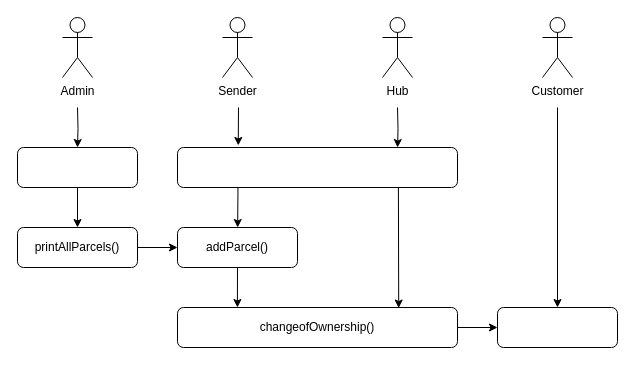
Some shapes in this 635 by 365 pixel diagram are drawn without their labels. The box of each missing label's shape, as (x1, y1, x2, y2) in pixels:
printAllSenders(): (16, 146, 138, 188)
registration(): (176, 146, 458, 188)
viewParcelinfo(): (496, 306, 618, 348)
